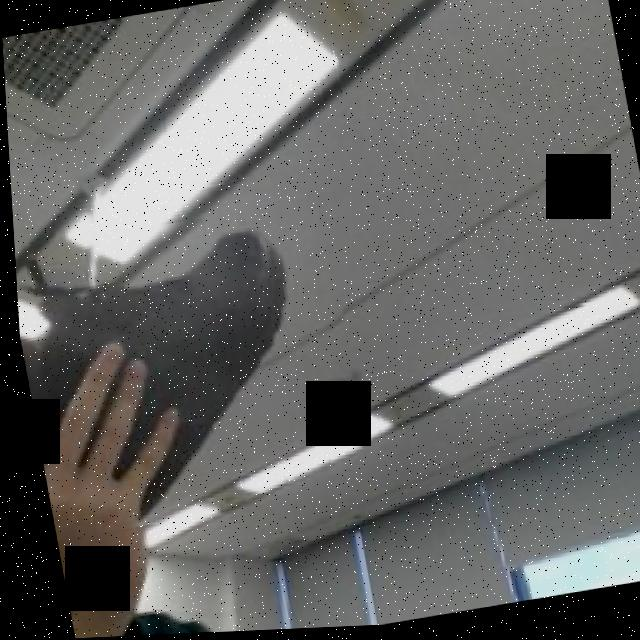shoe: (10, 195, 374, 541)
